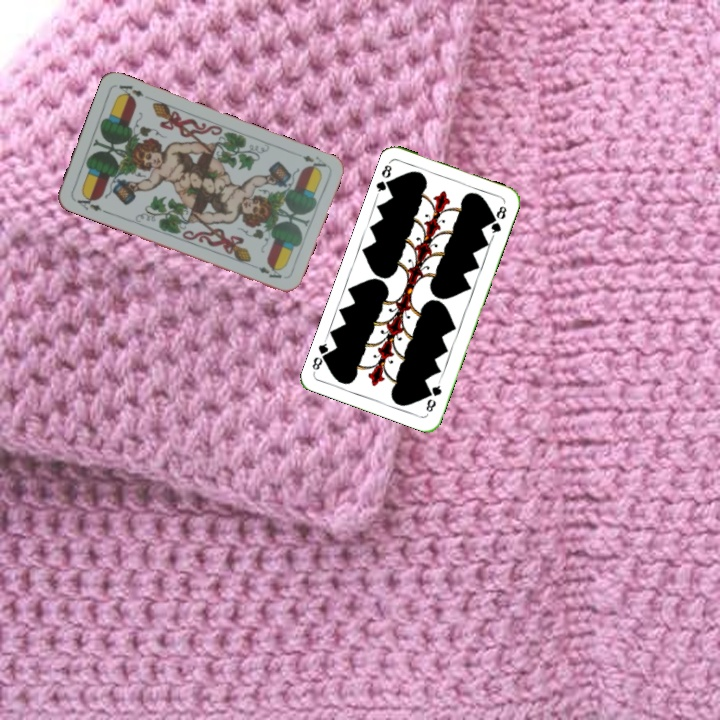EA: (73, 190, 109, 216), (298, 151, 329, 174)
G8: (372, 158, 396, 197), (422, 377, 444, 415)
